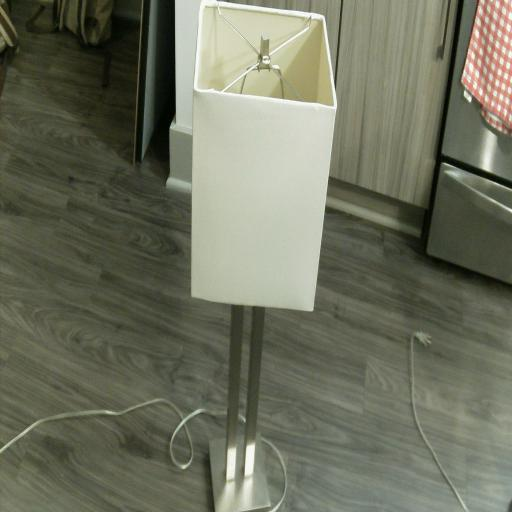lamp: (190, 1, 338, 512)
